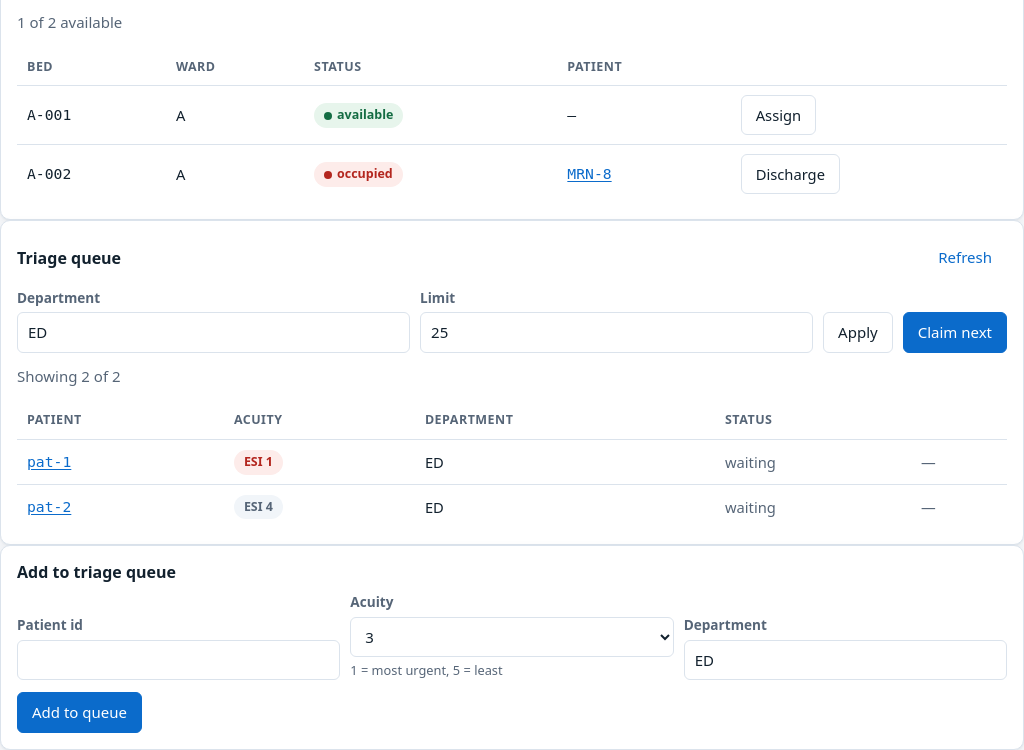
Scenario: PatientFlowPage › validates the enqueue form client-side
The width and height of the screenshot is (1024, 750).
(page scrolled)
Click the button "Add to queue" at (80, 712), box [17,692,142,732]
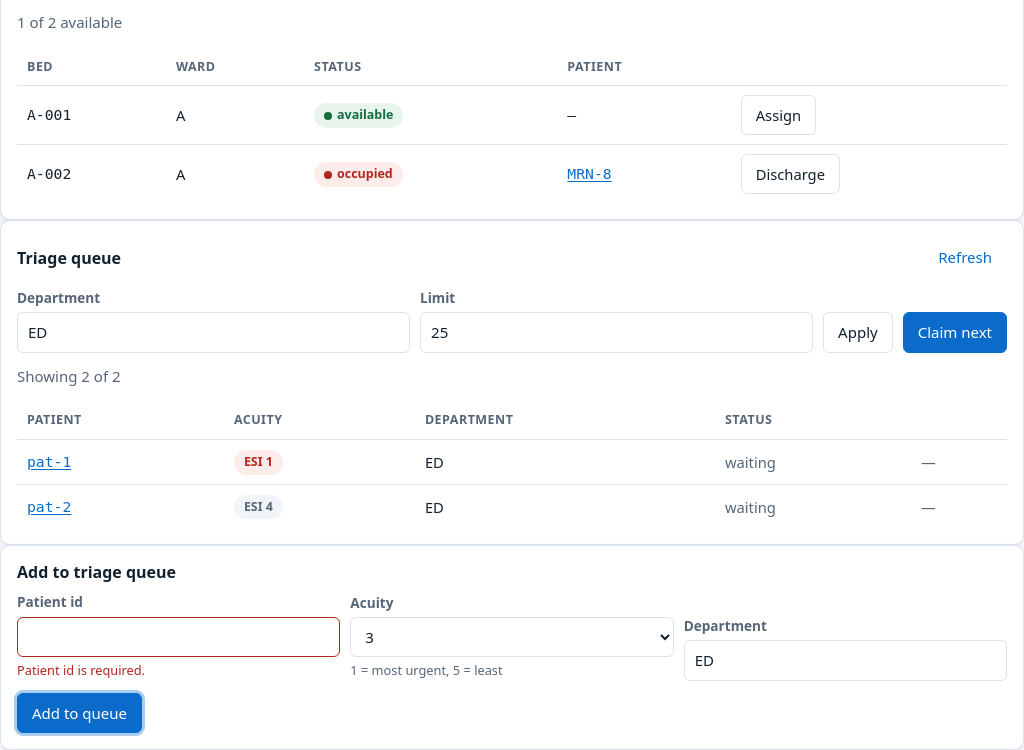
Check: the text "Patient id is required." is shown, box [17,661,145,679]
